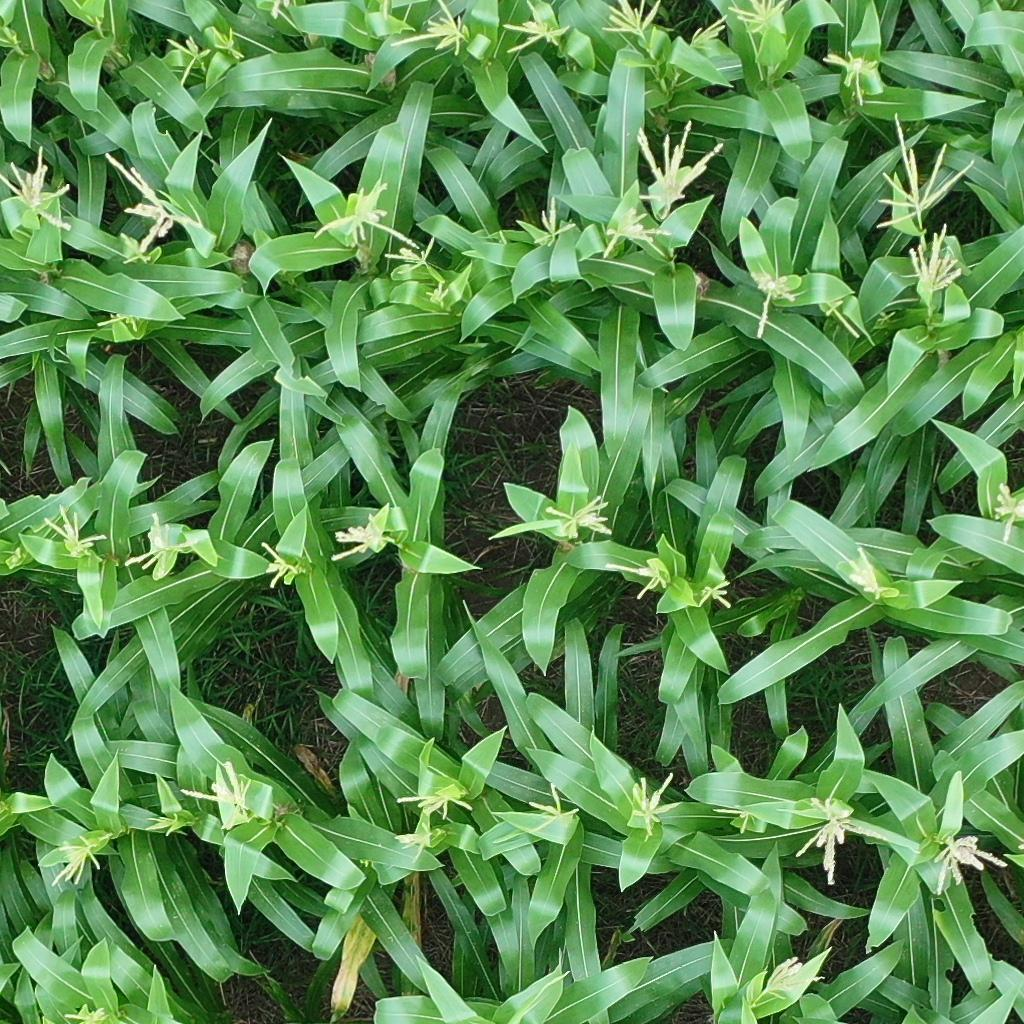Tassel: (869, 111, 975, 229), (789, 791, 890, 887), (630, 117, 730, 207), (1, 138, 85, 230), (102, 149, 177, 237), (122, 511, 201, 582), (178, 760, 258, 830), (307, 181, 391, 245), (385, 1, 474, 59), (903, 221, 969, 297), (929, 831, 1006, 892), (600, 205, 674, 263), (320, 508, 396, 564), (502, 1, 574, 58), (821, 40, 879, 110), (625, 769, 682, 838), (39, 503, 107, 559), (522, 782, 581, 841), (751, 267, 800, 338), (44, 831, 103, 888), (542, 493, 608, 543), (601, 1, 664, 46), (844, 543, 888, 606), (762, 952, 822, 997), (397, 787, 474, 821), (526, 195, 578, 244), (608, 564, 671, 603), (380, 230, 435, 274), (167, 32, 211, 87), (253, 539, 302, 588), (116, 220, 165, 269), (726, 1, 790, 38), (392, 818, 439, 862), (991, 481, 1023, 545), (690, 11, 728, 55), (717, 801, 768, 833), (211, 20, 245, 63), (96, 311, 144, 341), (697, 577, 732, 608), (63, 1000, 107, 1024), (146, 812, 179, 838), (426, 284, 454, 310)
